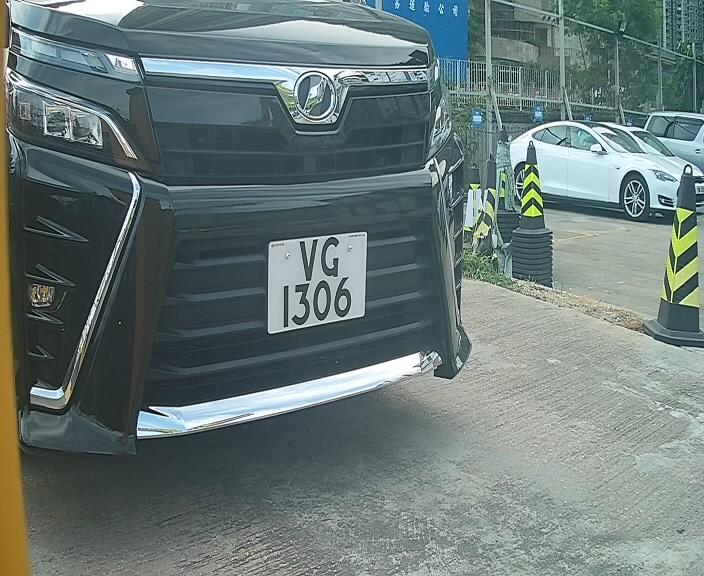Car: (10, 13, 513, 494)
License Plate: (258, 219, 375, 345)
